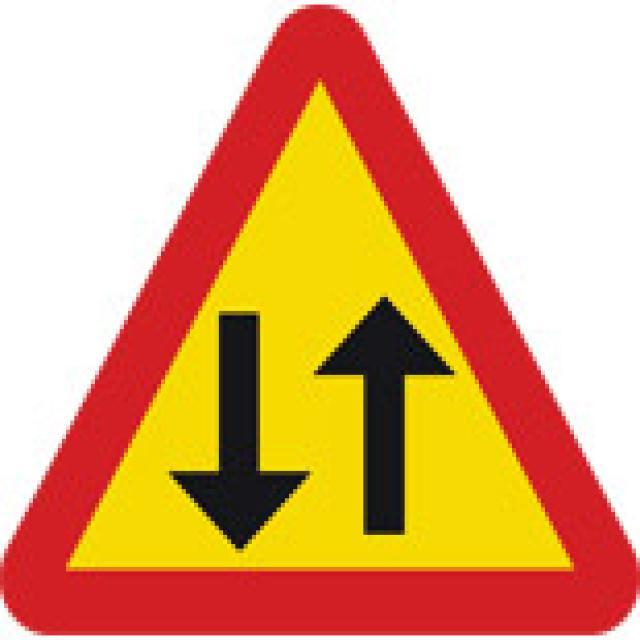150: (0, 0, 640, 640)
two way traffic: (0, 0, 640, 640)
